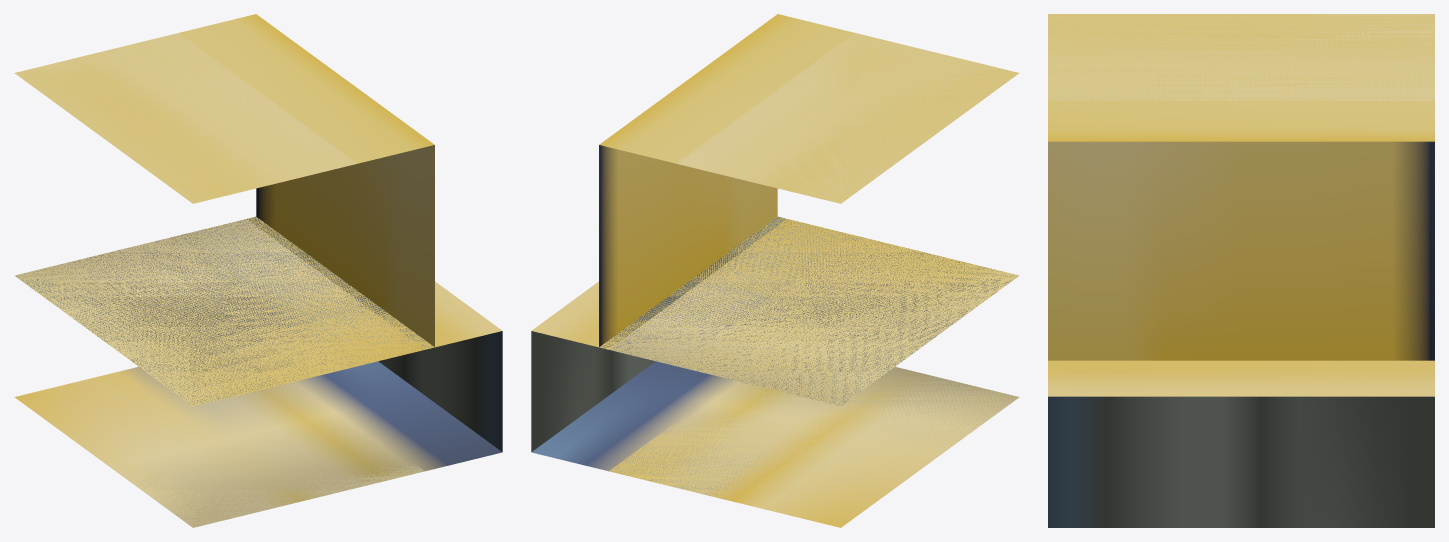
3 renders of one model, left to right at view 1: azimuth 30°, elevation 25°; view 2: azimuth 150°, elevation 25°; view 3: azimuth 270°, elevation 25°, orthographic. The views are drawn at different scales.
Visible parts, largest first — view 1: frame; view 2: frame; view 3: frame.
Boxes of the visible parts, left/top/right/bottom form: frame: left=14, top=14, right=502, bottom=527; frame: left=531, top=14, right=1019, bottom=527; frame: left=1048, top=14, right=1434, bottom=527.
Size of the model in its own units: 1 by 1 by 1.
